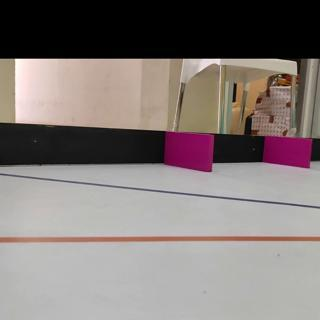xparking: (168, 133, 213, 168), (268, 137, 310, 164)
